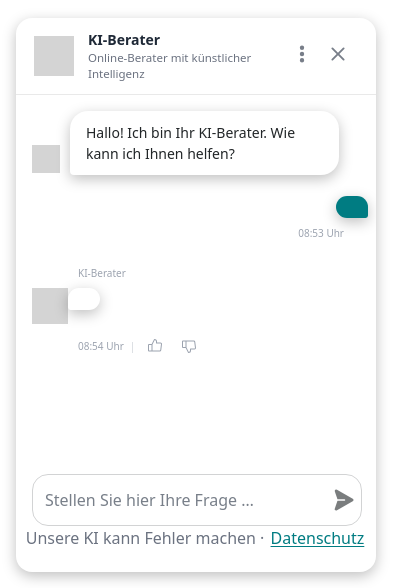
W01 bis W03: Escape-Ebenen im Chatfenster › W02: Kommentarfeld offen, Escape im Haupt-Eingabefeld schließt das Fenster; im Kommentarfeld nur das Feld
Click the button named "Antwort war nicht hilfreich" at (189, 346), box x1=175 y1=332 x2=203 y2=360
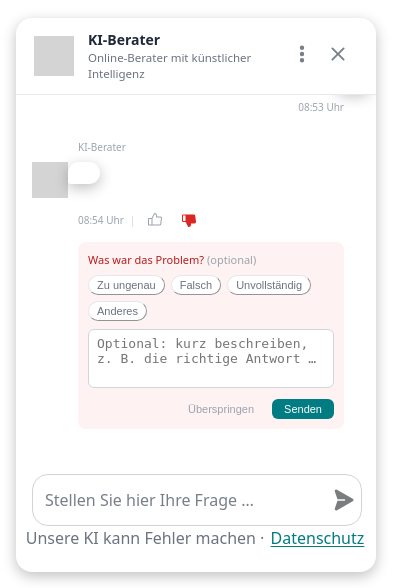
Result: the text box with placeholder "Optional: kurz beschreiben, z. B. die richtige Antwort …" is shown
Press Escape in the text box with placeholder "Optional: kurz beschreiben, z. B. die richtige Antwort …", box x1=88 y1=329 x2=334 y2=388
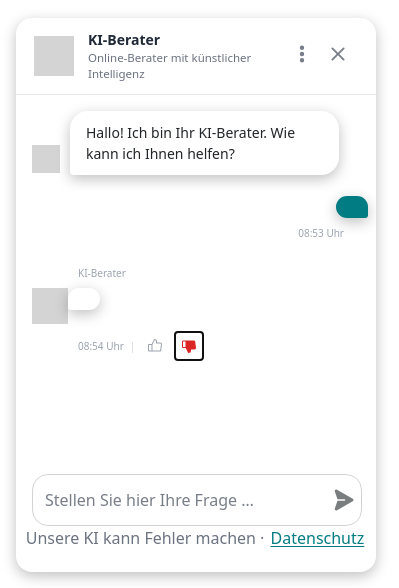
Expected: the text box with placeholder "Stellen Sie hier Ihre Frage …" is shown, x1=33 y1=478 x2=325 y2=522
Click the button named "Antwort war nicht hilfreich" at (189, 346), box x1=175 y1=332 x2=203 y2=360
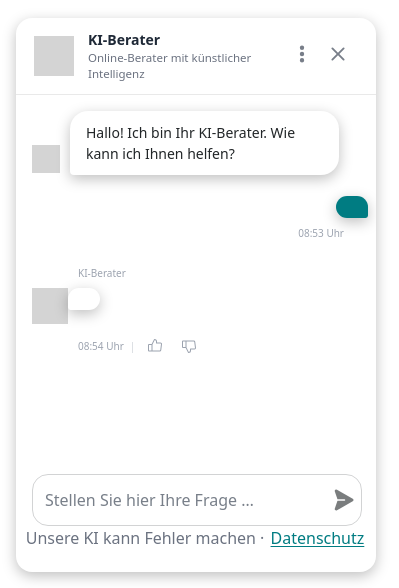
Click the button named "Antwort war nicht hilfreich" at (189, 346), box x1=175 y1=332 x2=203 y2=360
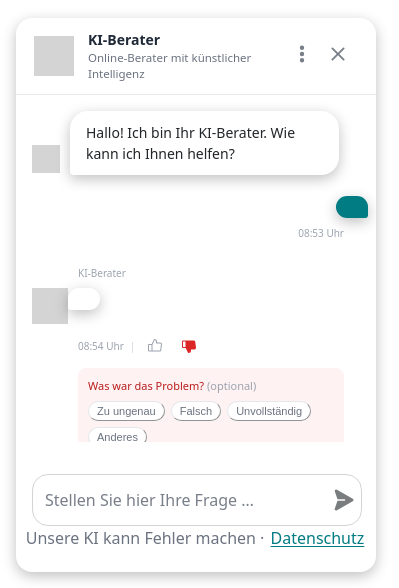
Press Escape in the text box with placeholder "Stellen Sie hier Ihre Frage …", box x1=33 y1=478 x2=325 y2=522
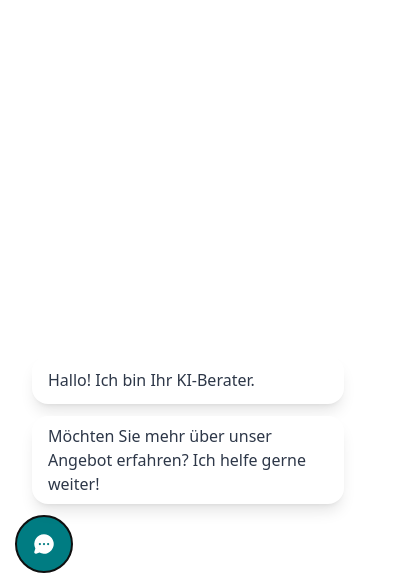
Result: the text box with id "message-input" is gone
Result: the button with id "anything-llm-embed-chat-button" is shown at x1=16 y1=516 x2=72 y2=572
